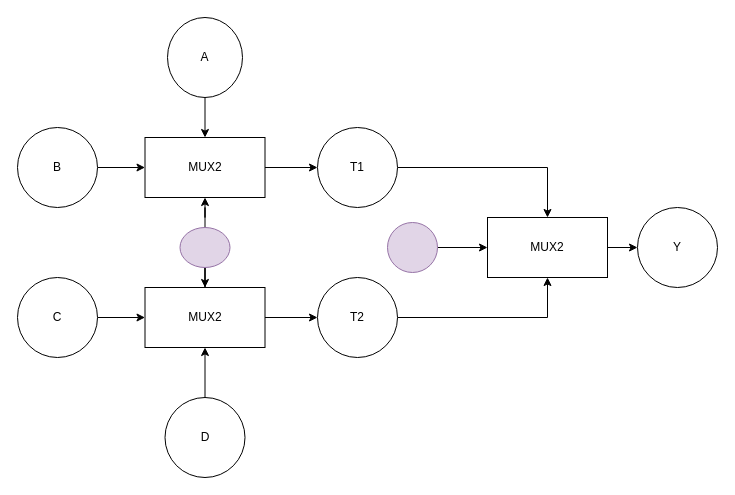
Some shapes in this 735 by 495 pixel diagram are drawn without their labels. The shapes that lost their labels are listed below. From the top down, each one's centre as x and y in pixels, then its label:
At [204,247]: "S0".
At [412,247]: "S1".
